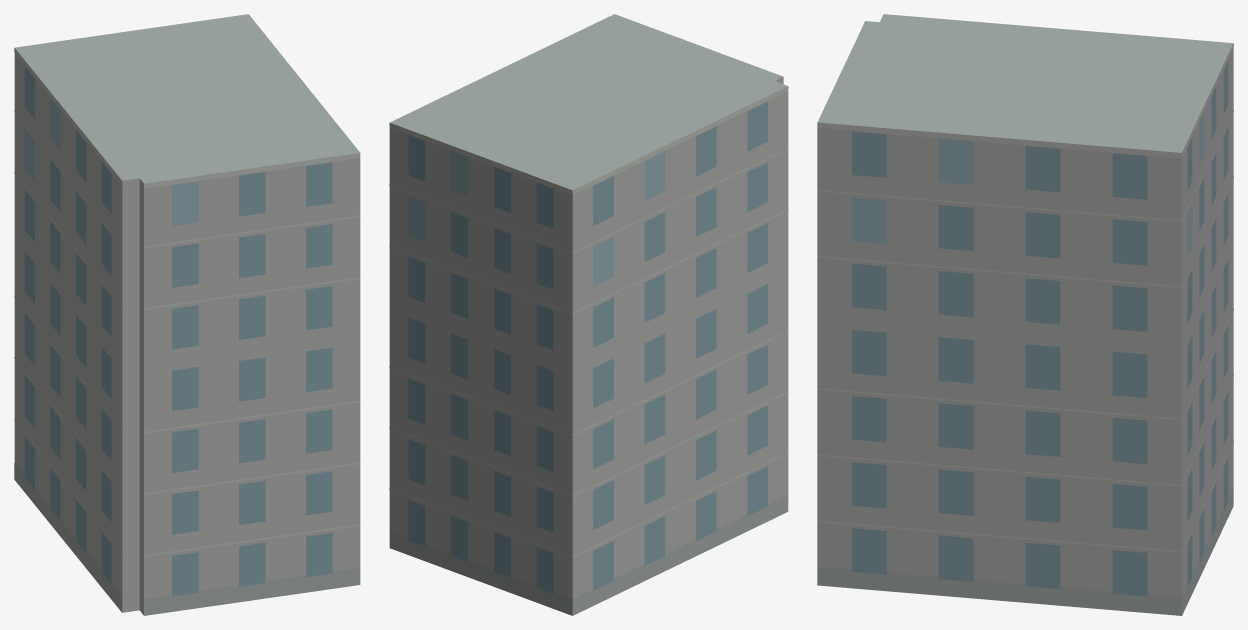
The model's file is survey-upis-32797466.glb.
The picture shows the model from 3 angles, left to right: view 1: azimuth 30°, elevation 25°; view 2: azimuth 150°, elevation 25°; view 3: azimuth 270°, elevation 25°; orthographic projection. The views are drawn at different scales.
Parts seen in each view (by area): view 1: survey-upis-32797466.tmp; view 2: survey-upis-32797466.tmp; view 3: survey-upis-32797466.tmp.
Part boxes in pixels (x1,y1,x2,y2): survey-upis-32797466.tmp: (14, 14, 360, 615); survey-upis-32797466.tmp: (389, 14, 788, 615); survey-upis-32797466.tmp: (817, 14, 1233, 615).
Size of the model in its own units: 13.35 by 20.7 by 16.89.
